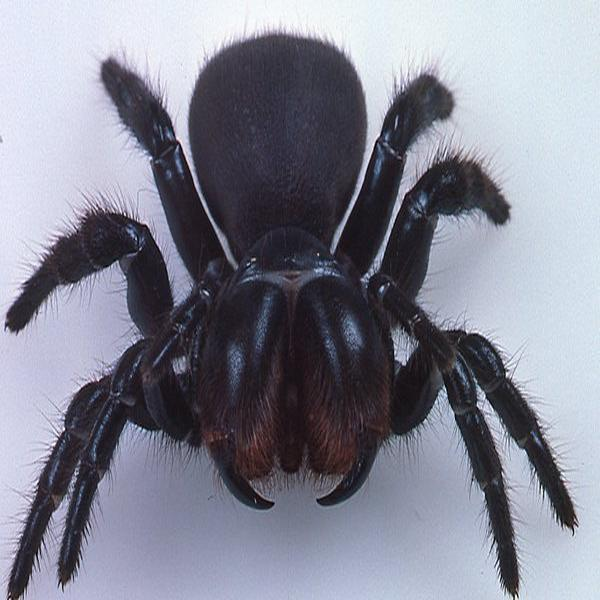Sydney_Funnel_Web_Spider: (7, 31, 577, 600)
